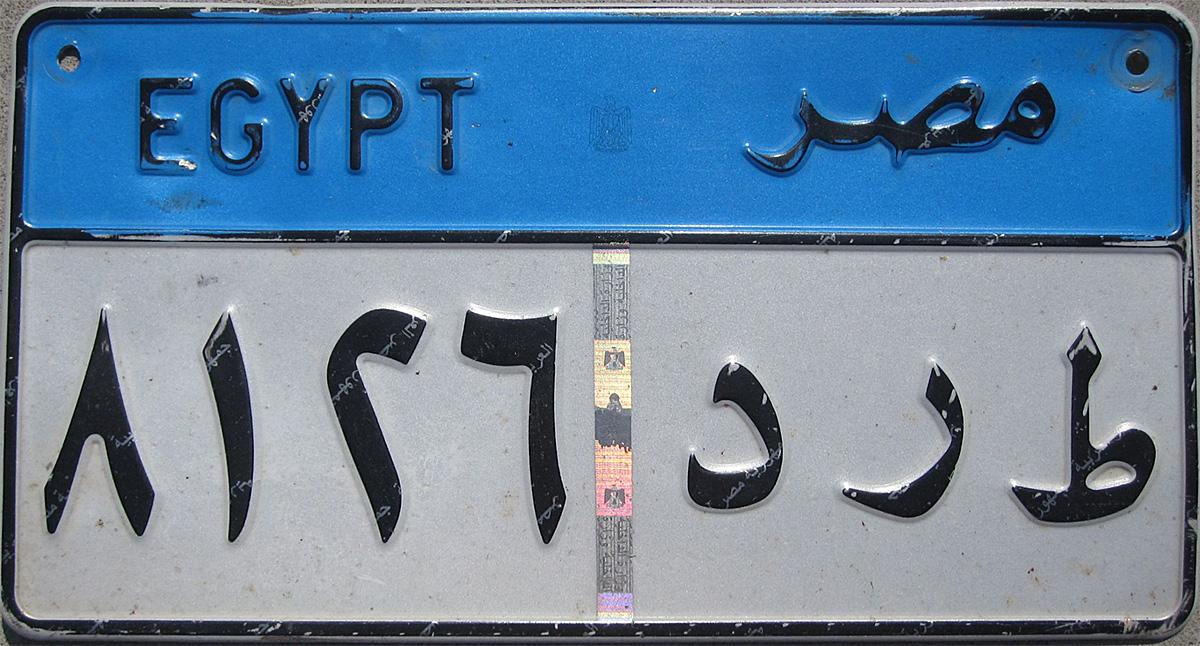1: (193, 295, 292, 562)
2: (317, 298, 437, 558)
6: (452, 282, 590, 550)
8: (32, 290, 178, 545)
Taa: (993, 312, 1170, 533)
daal: (665, 332, 798, 527)
raa: (823, 343, 973, 528)
